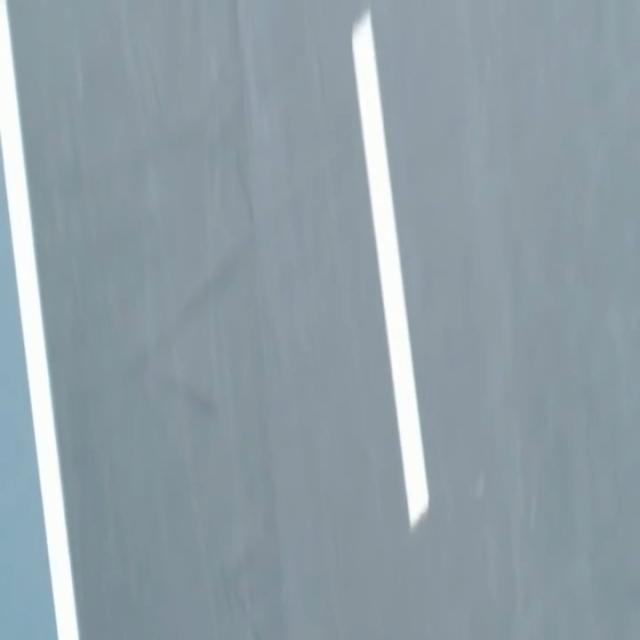center: (352, 12, 428, 527)
